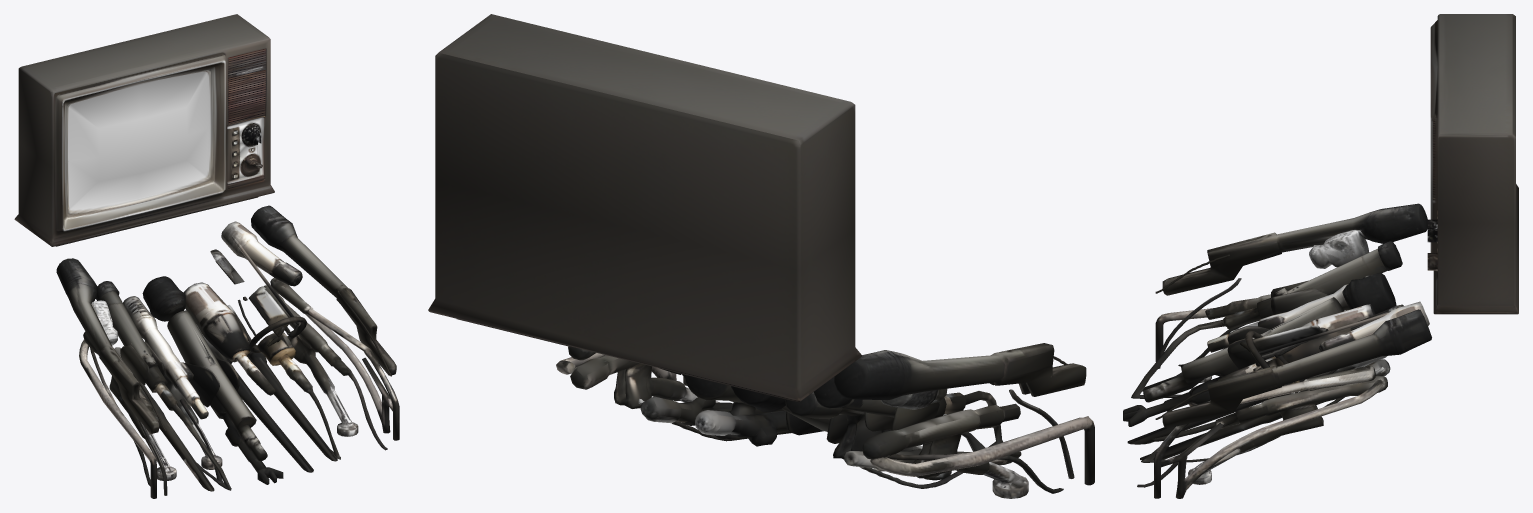
3 views of the same model, side by side, from view 1: azimuth 30°, elevation 25°; view 2: azimuth 150°, elevation 25°; view 3: azimuth 270°, elevation 25° (orthographic). The views are drawn at different scales.
Parts seen in each view (by area): view 1: mesh_rep_0_ori_repair_quad; view 2: mesh_rep_0_ori_repair_quad; view 3: mesh_rep_0_ori_repair_quad.
Boxes of the visible parts, bbox=[...] form: mesh_rep_0_ori_repair_quad: bbox=[14, 14, 399, 498]; mesh_rep_0_ori_repair_quad: bbox=[428, 14, 1094, 498]; mesh_rep_0_ori_repair_quad: bbox=[1123, 14, 1518, 498].
Size of the model in its own units: 0.6318 by 0.754 by 0.7525.
1 material, 1 textured.
